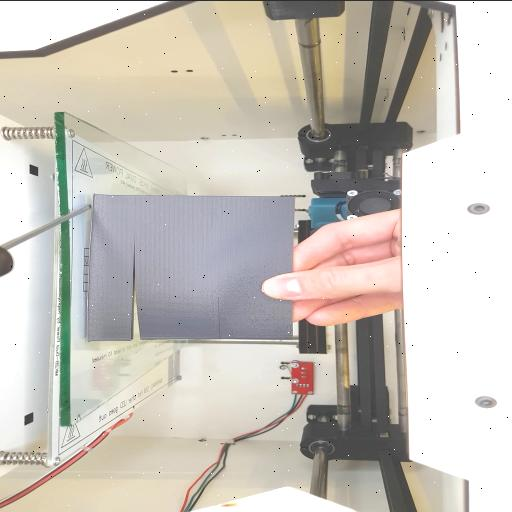cracks: (112, 235, 158, 350), (76, 183, 108, 237)
